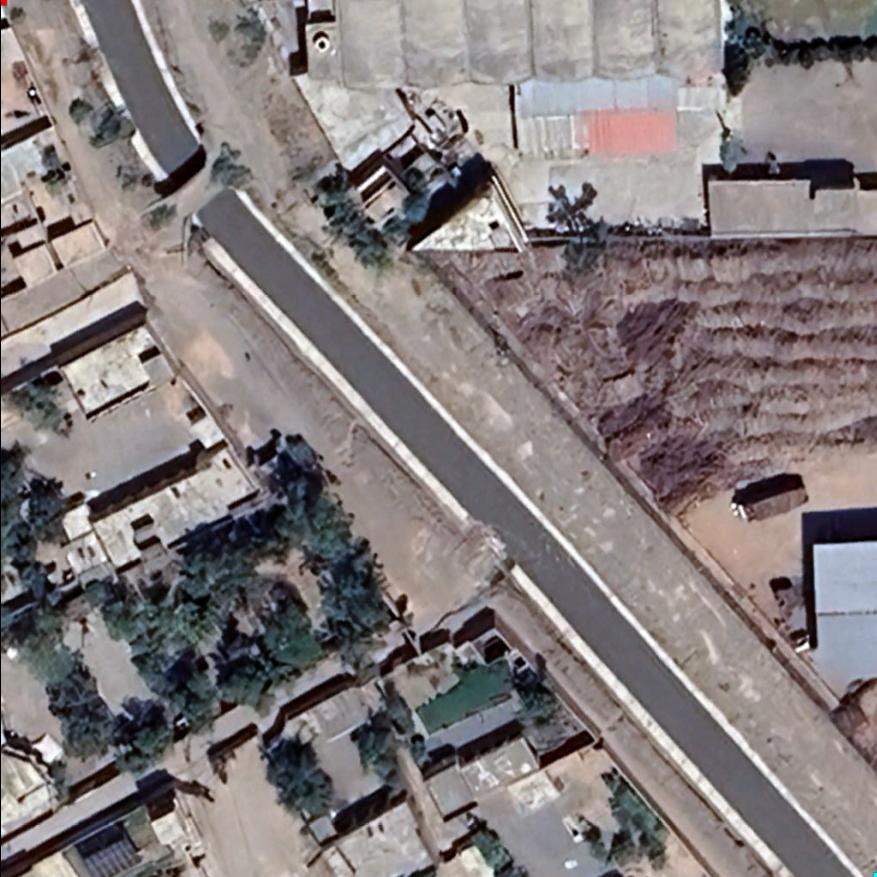Solarpanel: (69, 833, 152, 874)
